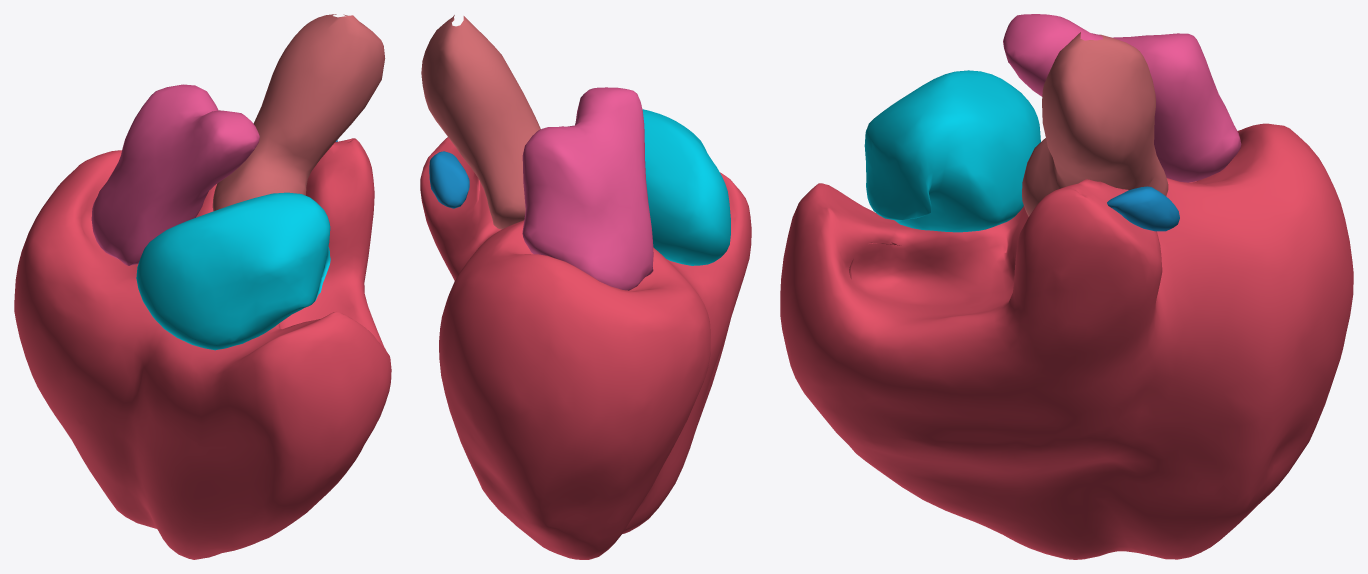
Rendered from frame_61.glb.
3 views of the same model, side by side, from view 1: azimuth 30°, elevation 25°; view 2: azimuth 150°, elevation 25°; view 3: azimuth 270°, elevation 25° (orthographic). The views are drawn at different scales.
Visible parts, largest first — view 1: Renderer Node; view 2: Renderer Node; view 3: Renderer Node.
Part boxes in pixels (x1=…): Renderer Node: x1=14, y1=14, x2=391, y2=559; Renderer Node: x1=420, y1=15, x2=751, y2=559; Renderer Node: x1=780, y1=14, x2=1353, y2=559.
Size of the model in its own units: 106 by 162 by 135.
